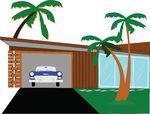car: (28, 64, 63, 87)
